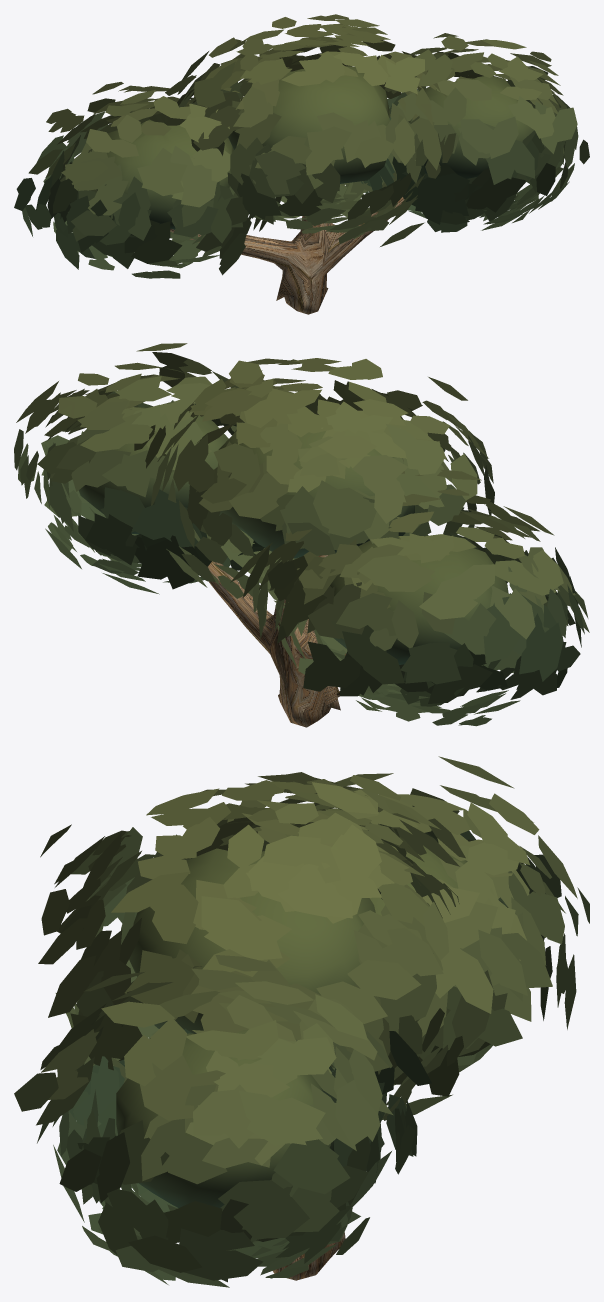
File: valley-grove-shrub.glb
3 views of the same model, one above another, from view 1: azimuth 30°, elevation 25°; view 2: azimuth 150°, elevation 25°; view 3: azimuth 270°, elevation 25° (orthographic). The views are drawn at different scales.
Visible parts, largest first — view 1: grove-crown-foliage, grove-living-wood; view 2: grove-crown-foliage, grove-living-wood; view 3: grove-crown-foliage, grove-living-wood.
Part boxes in pixels (x1,y1,x2,y2): grove-crown-foliage: [14, 14, 589, 278]; grove-living-wood: [170, 197, 404, 314]; grove-crown-foliage: [14, 343, 589, 726]; grove-living-wood: [208, 555, 345, 727]; grove-crown-foliage: [14, 756, 589, 1287]; grove-living-wood: [273, 1232, 345, 1280].
Bounding box in the file's own units: 3.41 × 1.87 × 2.05.
Materials: 2 (1 with a texture image).
